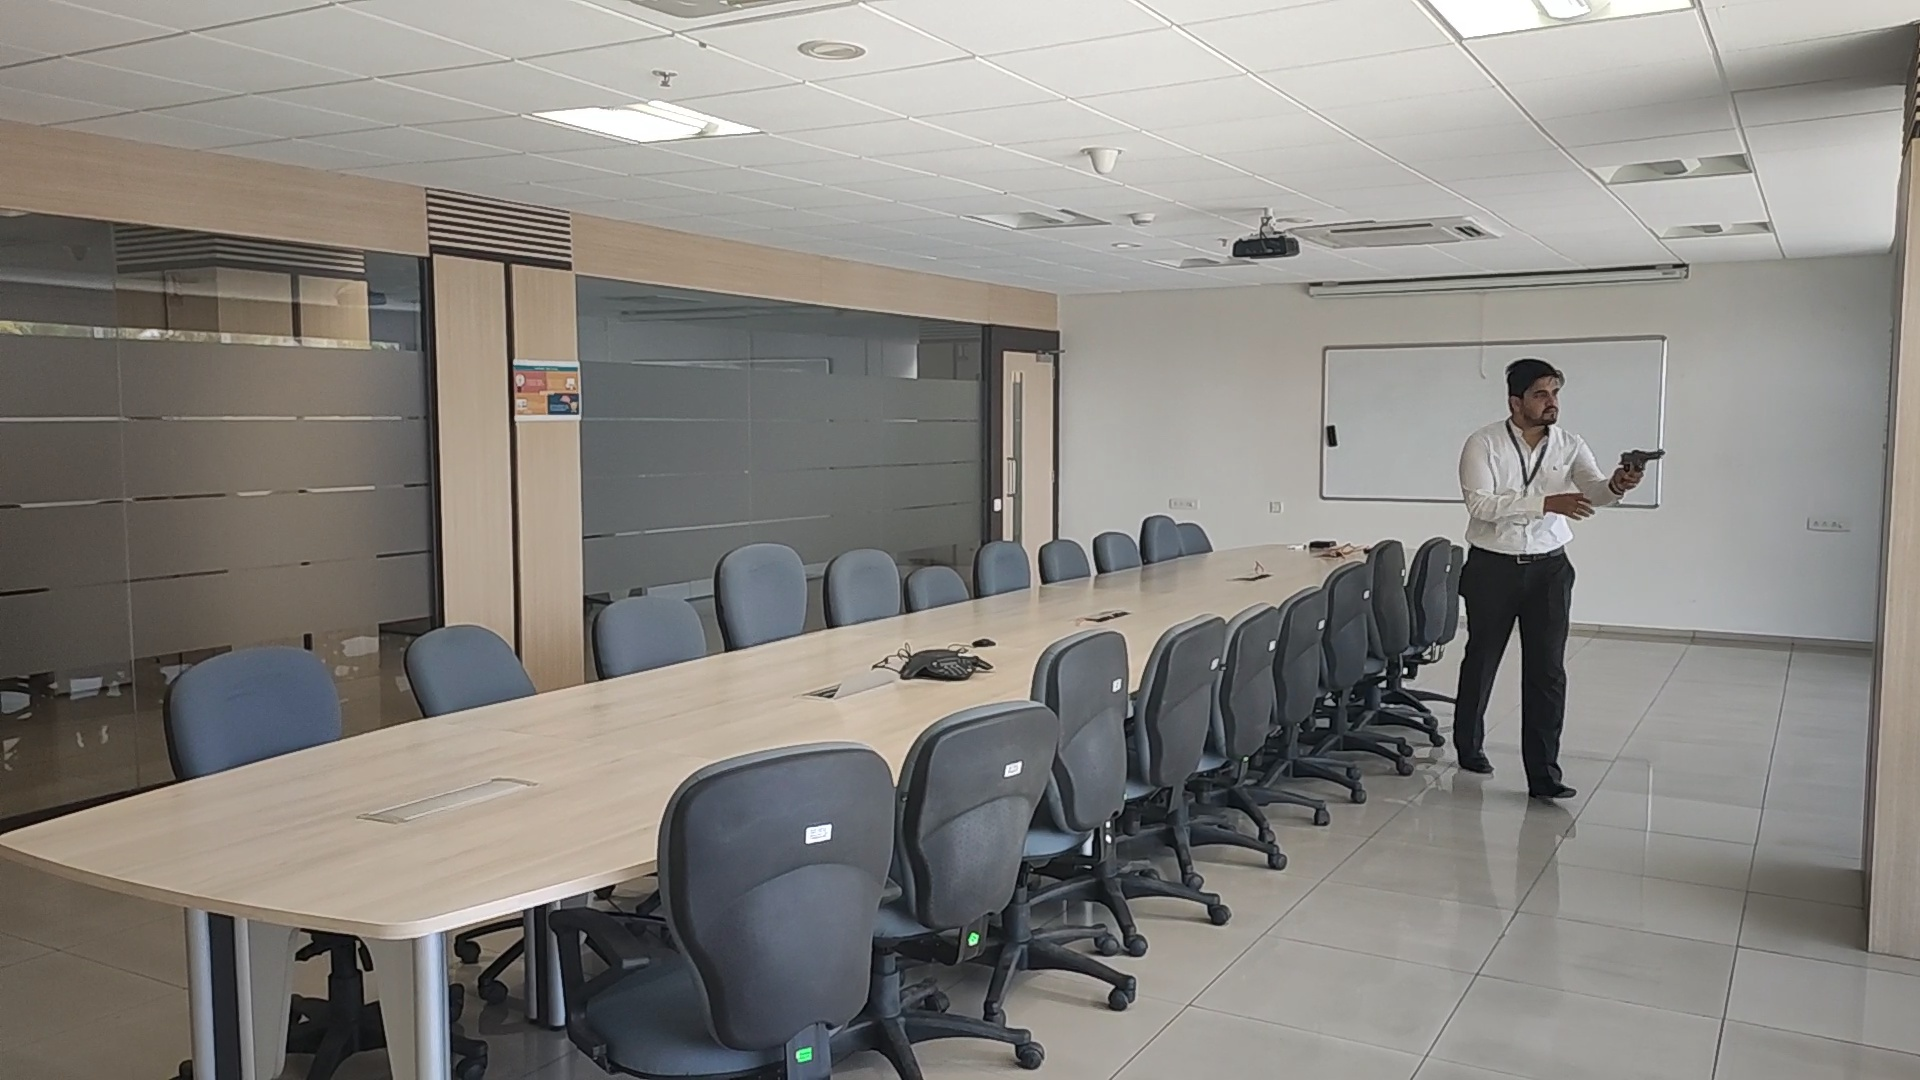knife: (1615, 448, 1667, 467)
